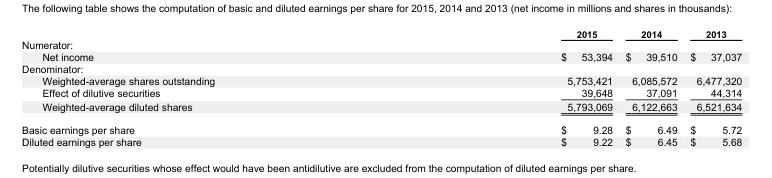table: (21, 28, 741, 147)
table column: (21, 28, 387, 147), (387, 28, 618, 147), (618, 28, 683, 147), (683, 28, 741, 147)
table column header: (21, 28, 741, 39)
table projected row header: (21, 62, 741, 74), (21, 39, 741, 50)
table row: (21, 99, 741, 117), (21, 117, 741, 135), (21, 86, 741, 99), (21, 50, 741, 62), (21, 62, 741, 74), (21, 74, 741, 86), (21, 135, 741, 147), (21, 28, 741, 39), (21, 39, 741, 50)
